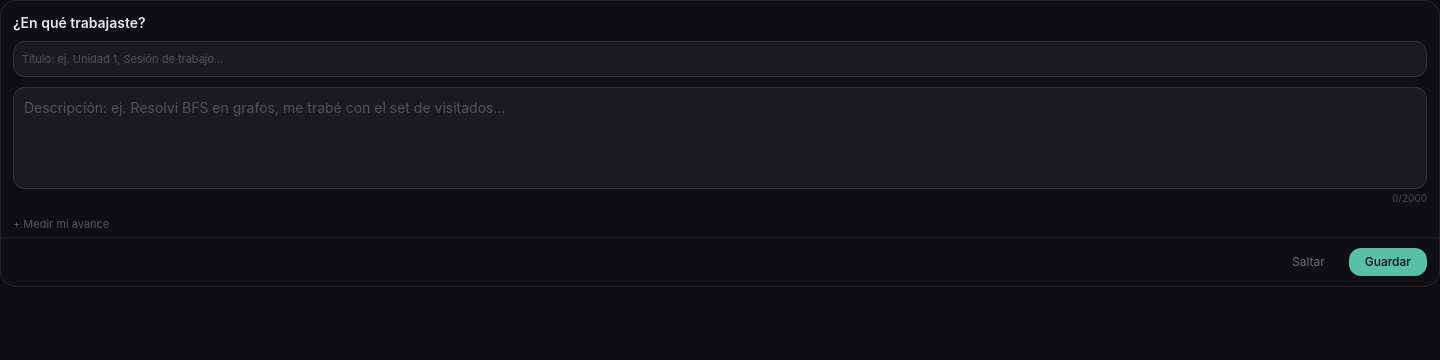
Test: JournalPrompt — sin unidad configurada › el selector se abre ADENTRO del modal, sin mandar a Configuración
Click the button "+ Medir mi avance".
click(61, 224)  # box x1=13 y1=216 x2=109 y2=232
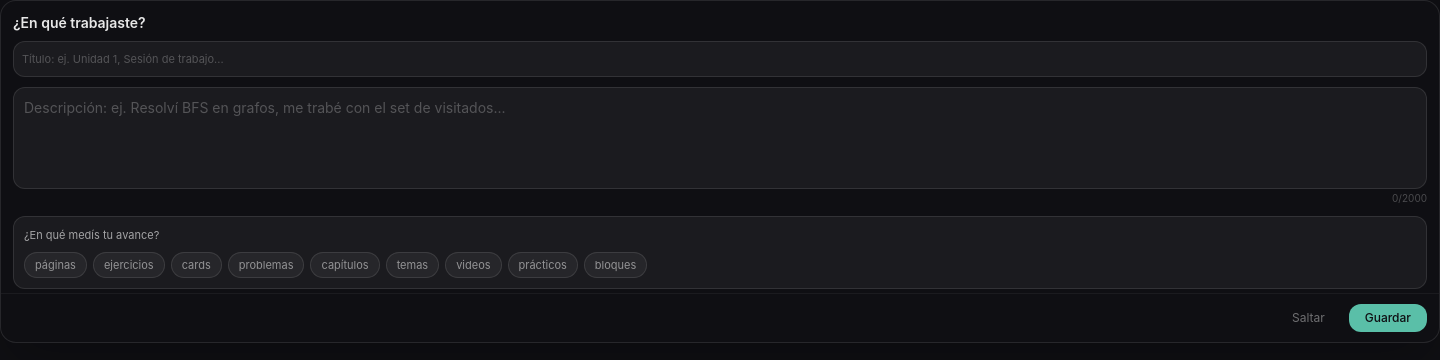
Now the button "cards" is shown, box x1=171 y1=252 x2=222 y2=278
